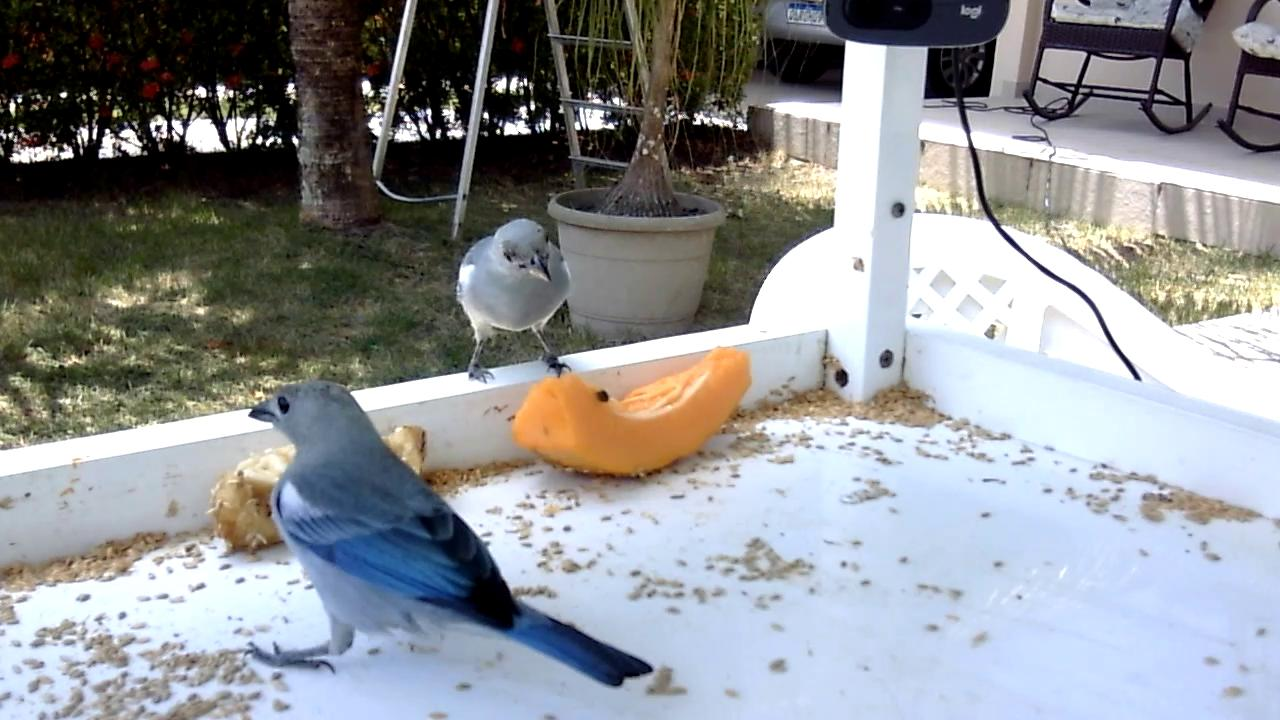sanhaco_da_amazonia: (244, 378, 659, 694), (455, 217, 576, 388)
